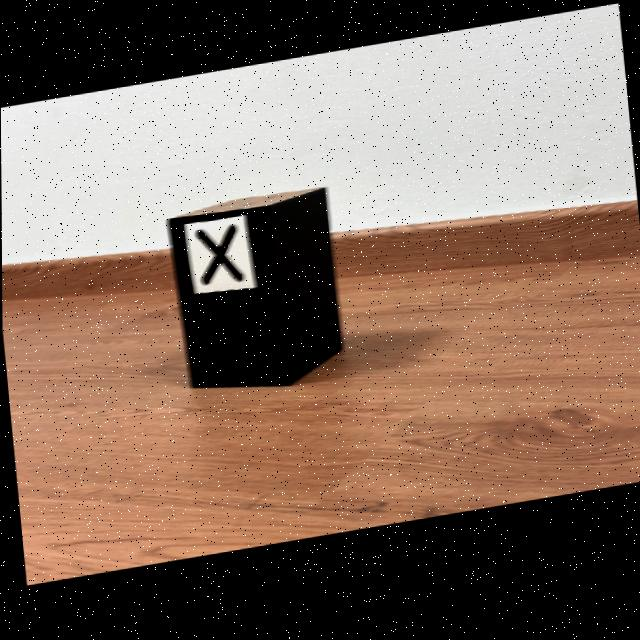X: (198, 229, 241, 287)
